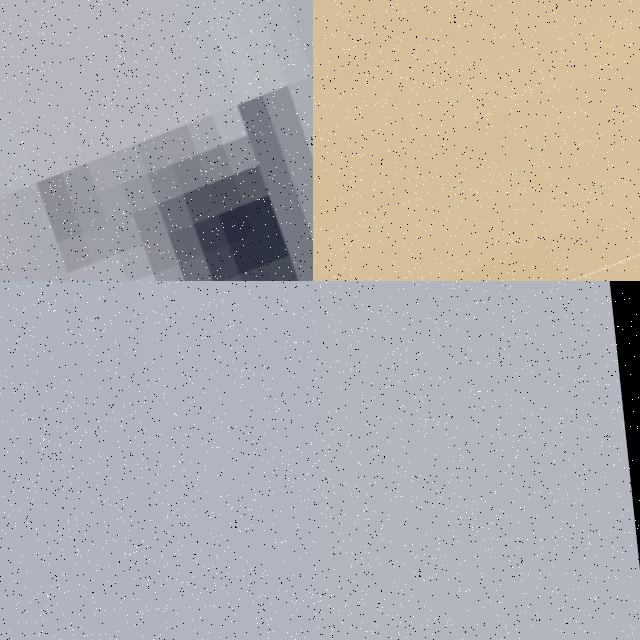0: (0, 0, 313, 281)
drone: (313, 0, 640, 281)
